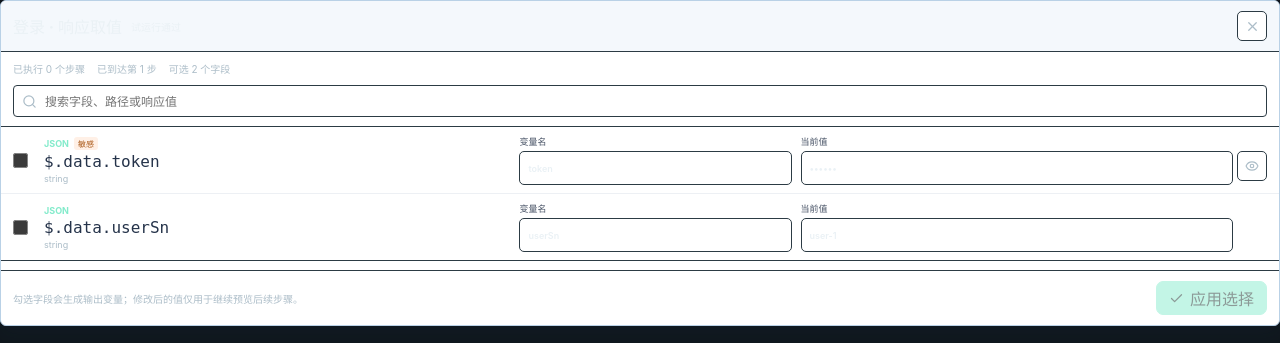
Test: WorkflowStepPreviewPanel › filters fields by path or value
Type "user-1" into the field with test id "workflow-preview-search" showing "搜索字段、路径或响应值" at (652, 101), box x1=45 y1=87 x2=1258 y2=115
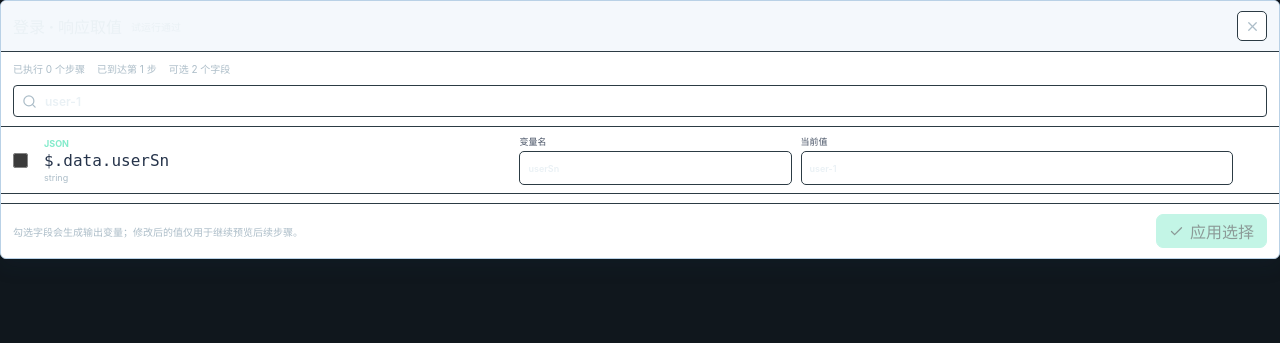
Expected: the text "$.data.userSn" is shown, x1=44 y1=150 x2=169 y2=170
Expected: the text "$.data.token" is gone
